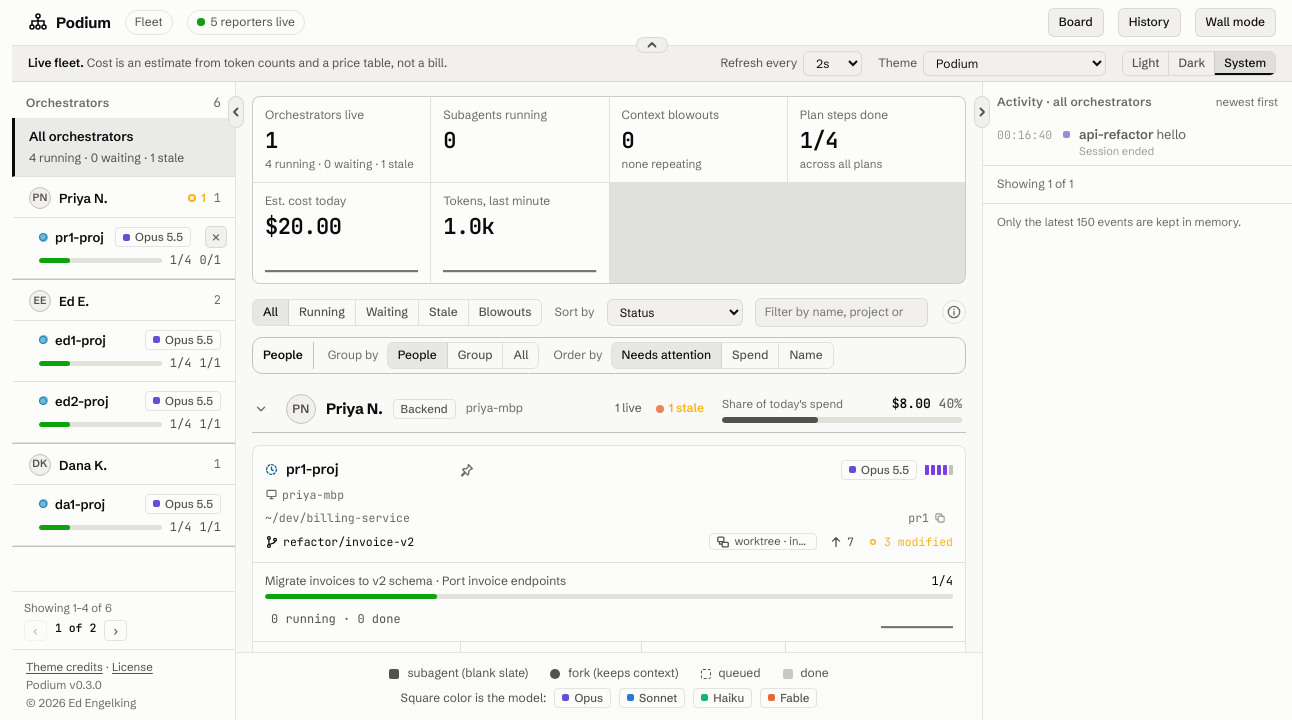
Test: people view › groups by group: a band per group naming each card's owner, No group last, and no band for a group with nobody live
Click the button "Group".
click(476, 355)  # box [448, 343, 503, 368]
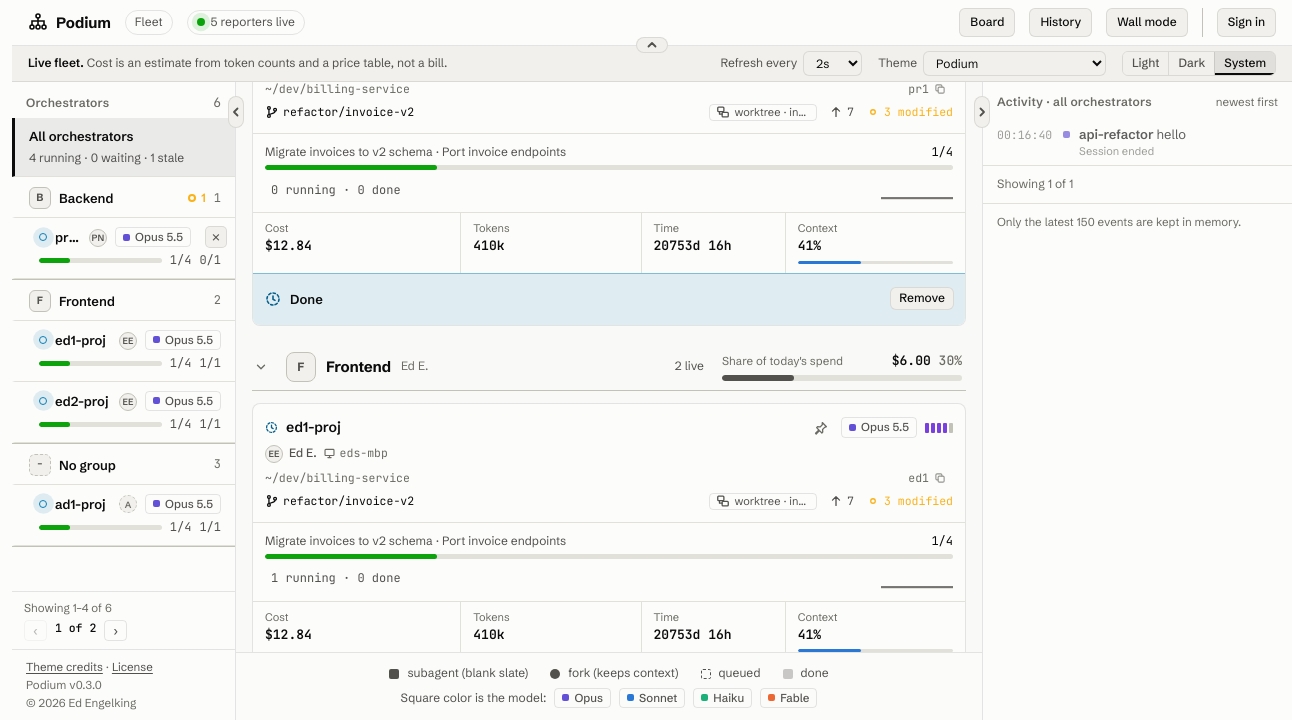
Now the 1st text "Ed E." is shown, box [401, 358, 428, 373]
Now the text "Spend today, by group" is gone
